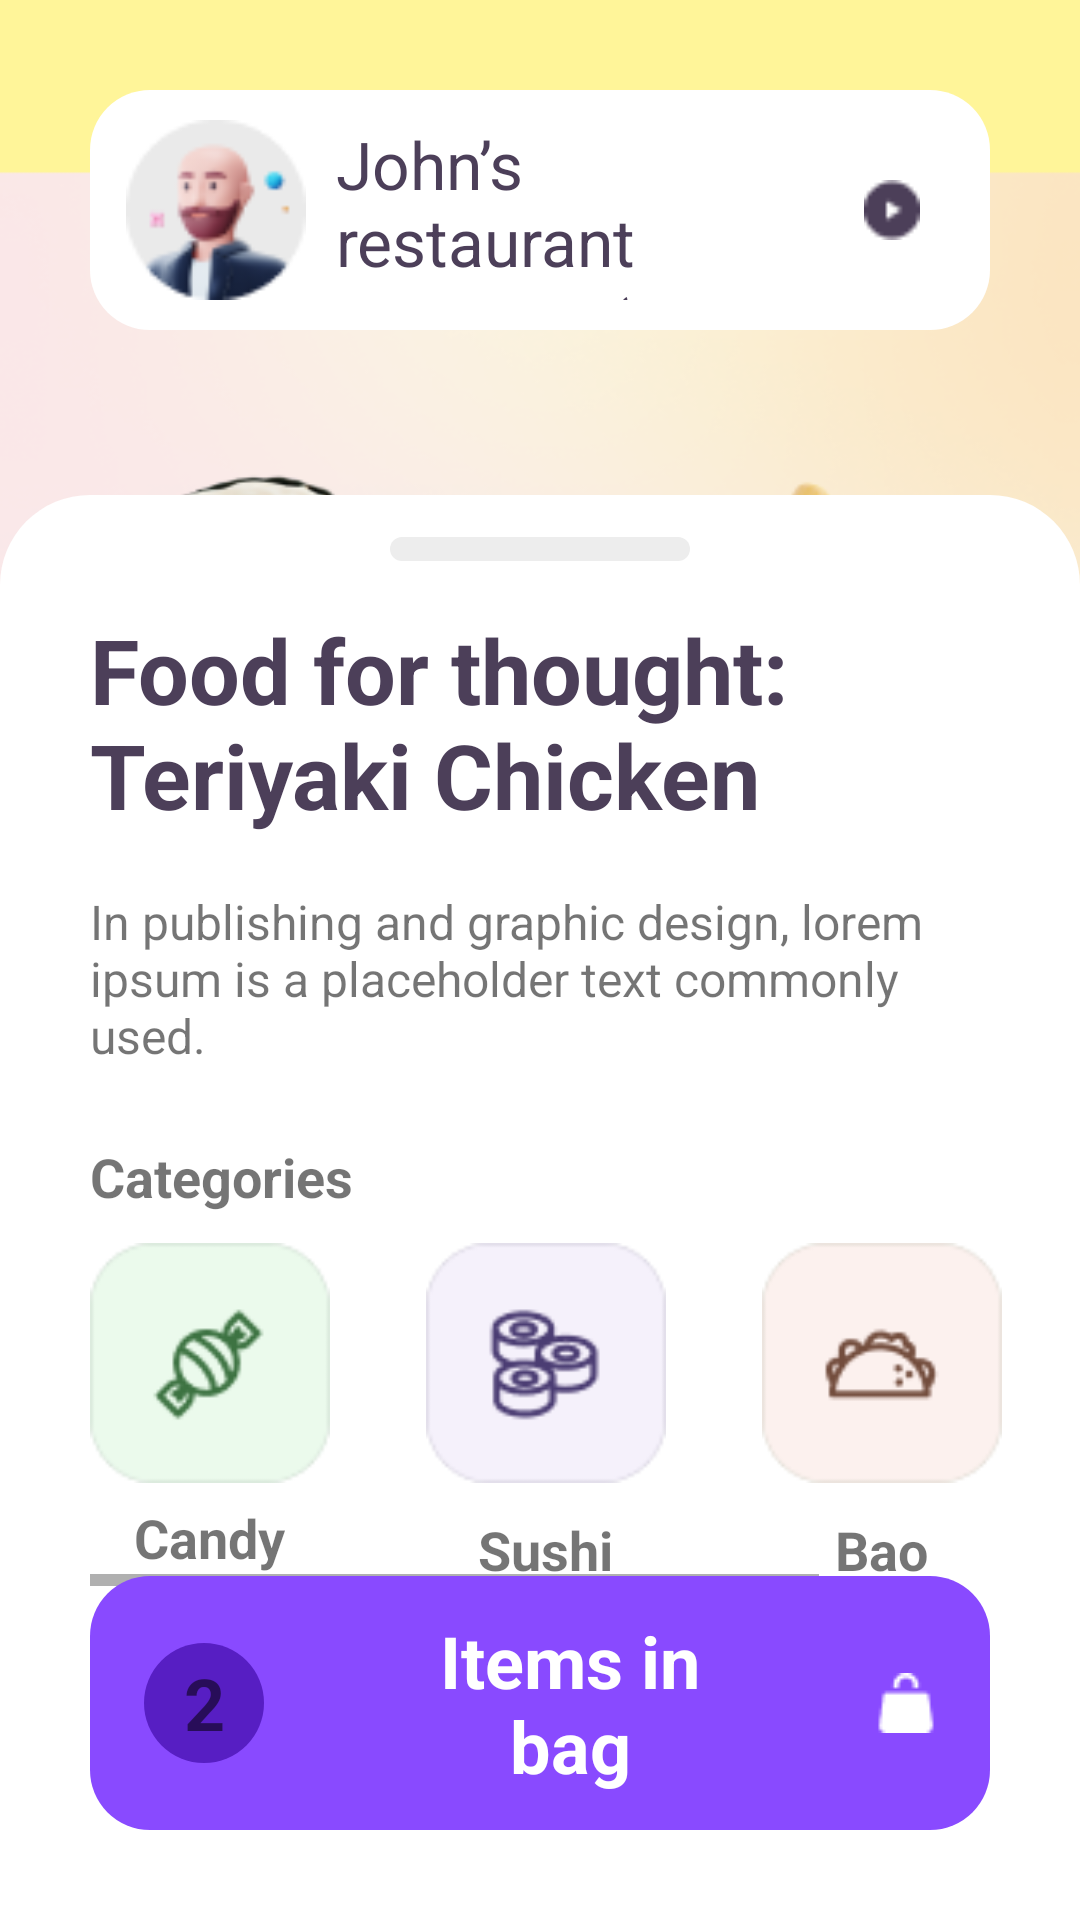

Locate icon controls on the screen. Image size 1080px x 1920px, boxes as (x1, y1, x2, y2).
person: (146, 143, 290, 300)
shopping bag: (878, 1673, 934, 1733)
